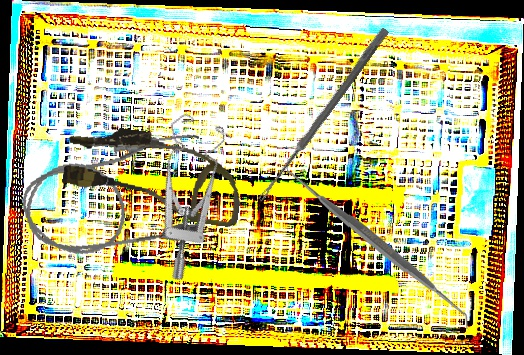Cannula: (13, 124, 217, 267), (59, 120, 248, 229)
Spatula Surgical: (286, 154, 469, 334)
Speculum: (103, 102, 262, 285)
Surgical Spoon: (256, 26, 390, 204)
